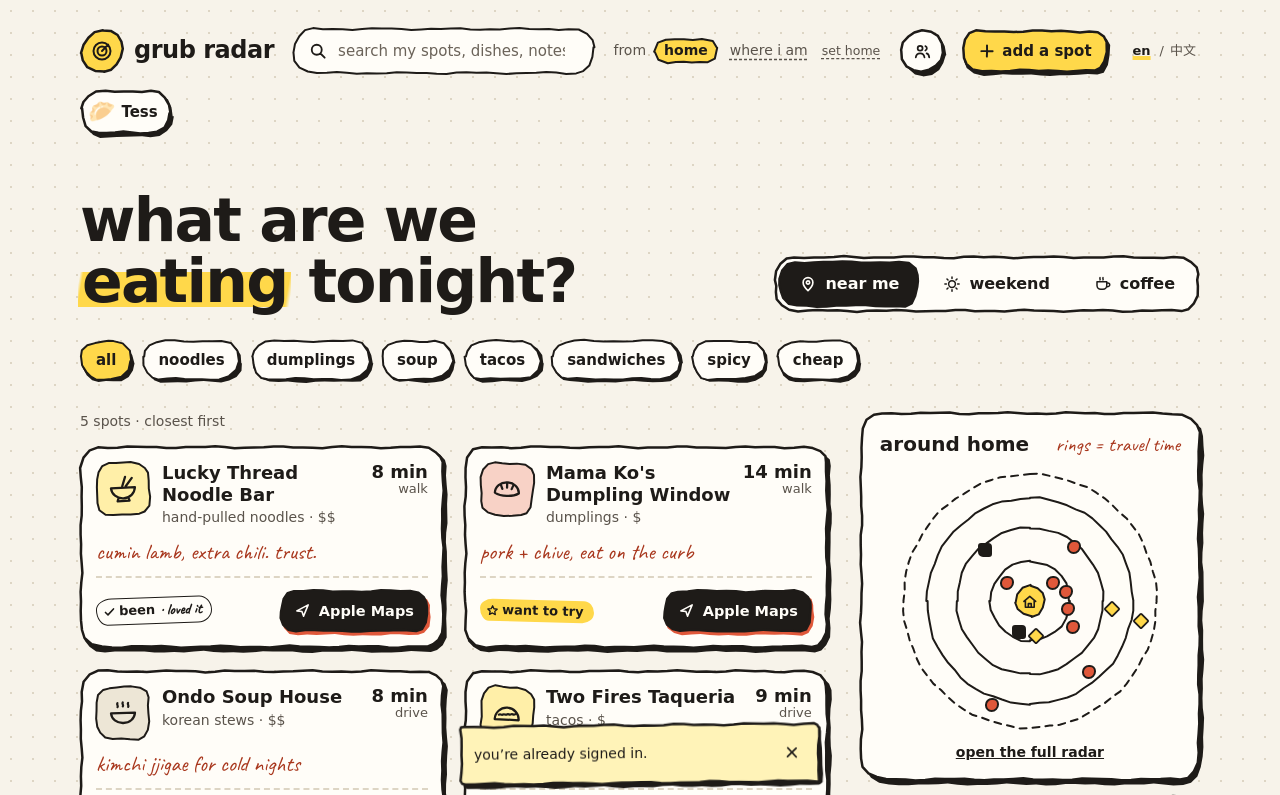
Scenario: the login wall › signed in, ?signin=already is a gentle, dismissible note over the app
Expected: the text "you’re already signed in." is shown, top-left (460, 722), bottom-right (820, 786)
Expected: the element that starts with "Lucky Thread Noodle Bar" is shown, top-left (80, 446), bottom-right (444, 648)
Click the button named "Dismiss".
click(792, 752)  # box top-left (770, 730), bottom-right (814, 775)
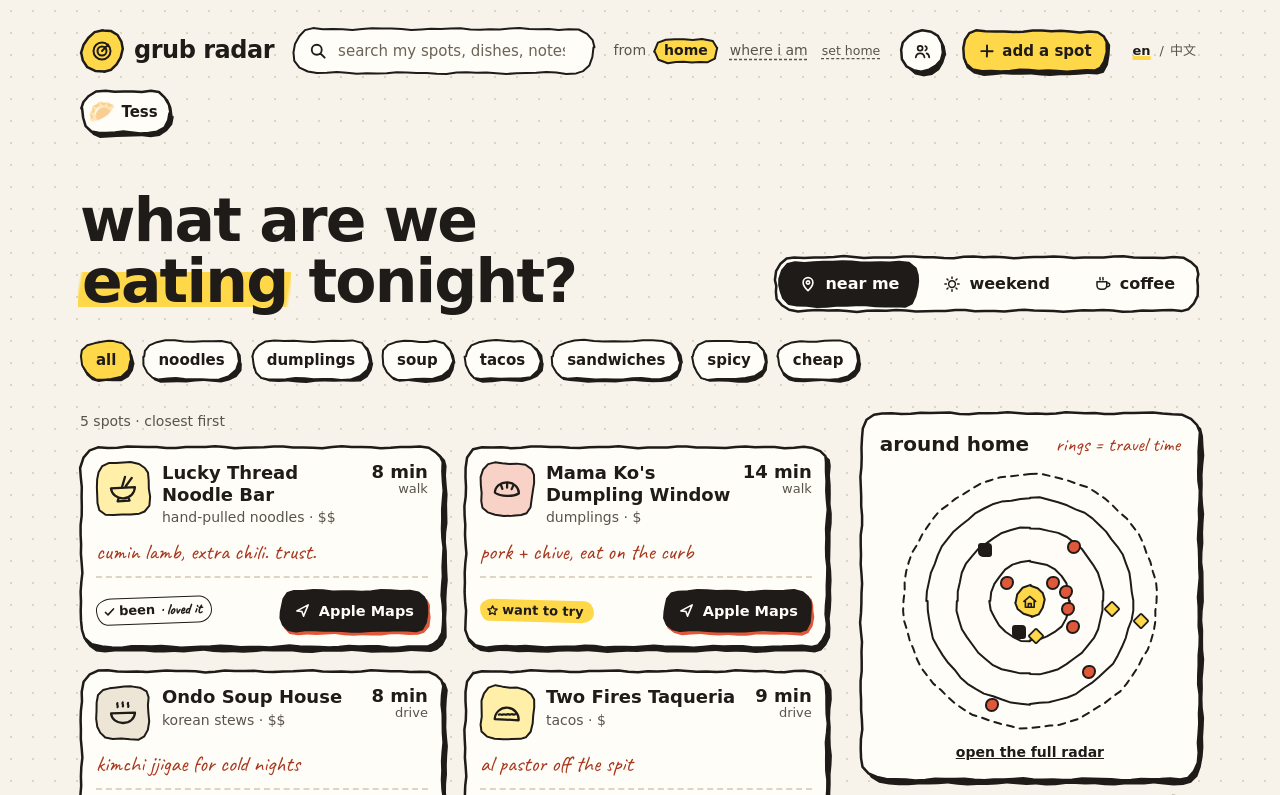
Expected: the text "you’re already signed in." is gone
